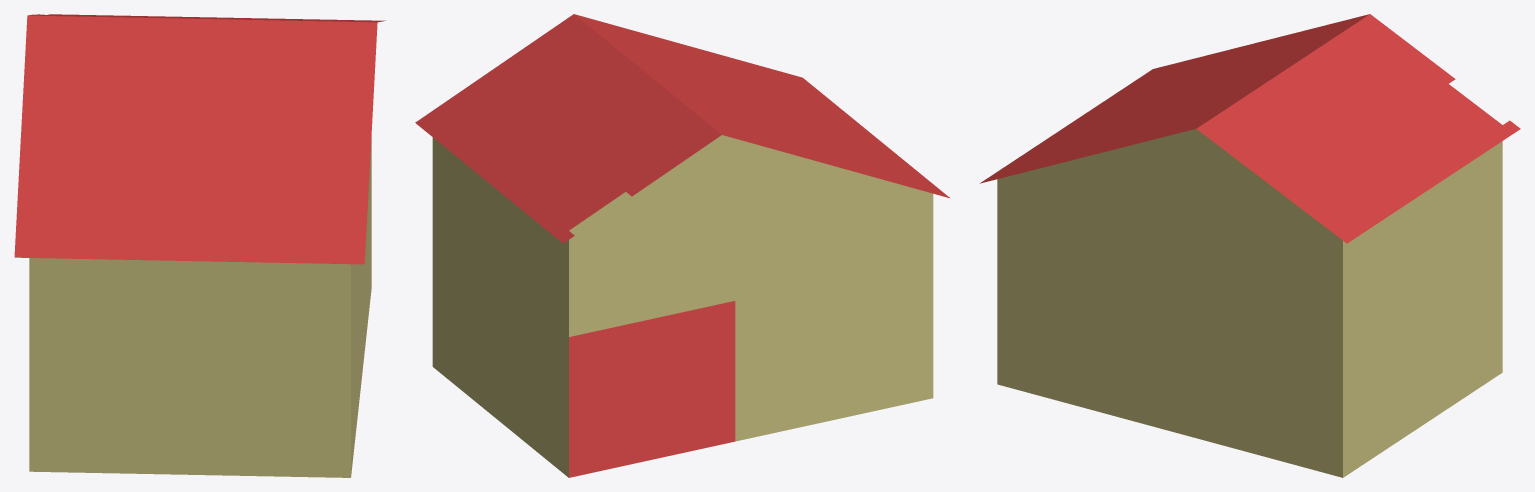
The picture shows the model from 3 angles, left to right: view 1: azimuth 30°, elevation 25°; view 2: azimuth 150°, elevation 25°; view 3: azimuth 270°, elevation 25°; orthographic projection. The views are drawn at different scales.
Bounding box in the file's own units: 19.21 × 20.52 × 13.2.
